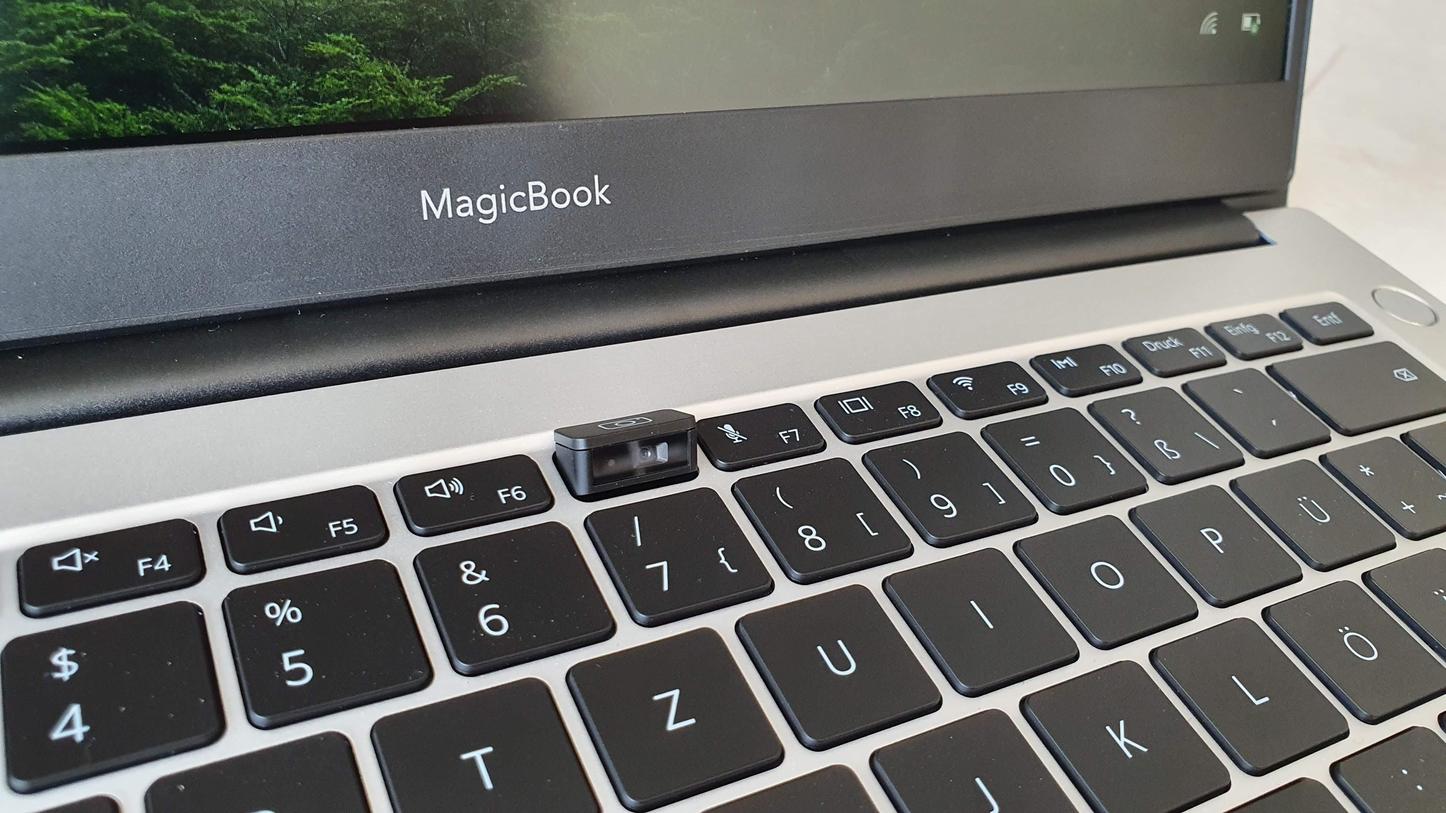0: (981, 405, 1145, 507)
4: (1, 600, 229, 793)
5: (222, 560, 433, 731)
6: (411, 522, 614, 676)
7: (585, 479, 775, 622)
8: (731, 454, 912, 578)
9: (861, 428, 1037, 541)
accent: (1181, 363, 1327, 449)
del: (1267, 338, 1440, 430)
i: (883, 545, 1077, 691)
j: (869, 704, 1074, 813)
k: (1022, 659, 1227, 813)
keyboard: (4, 272, 1442, 813)
l: (1152, 619, 1348, 773)
o: (1015, 515, 1200, 649)
oe: (1263, 577, 1441, 724)
p: (1131, 483, 1302, 605)
plus: (1318, 433, 1444, 534)
ss: (1087, 383, 1241, 476)
t: (371, 679, 605, 813)
u: (736, 582, 945, 749)
ue: (1231, 457, 1397, 568)
z: (568, 628, 784, 805)
